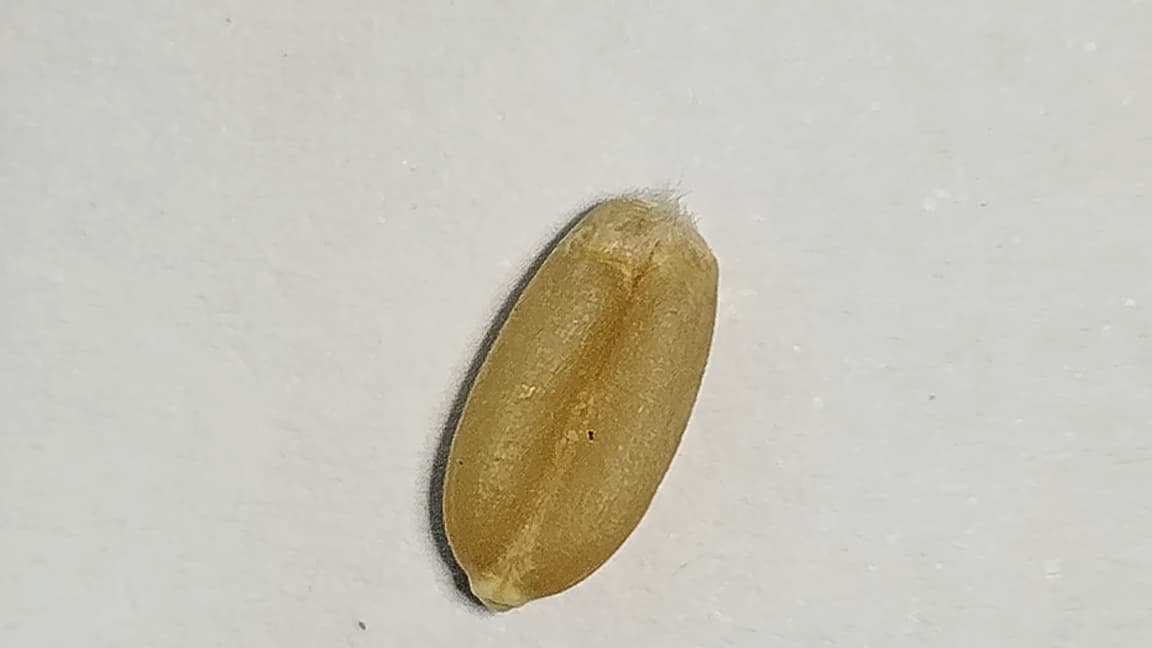healthy: (444, 194, 717, 609)
